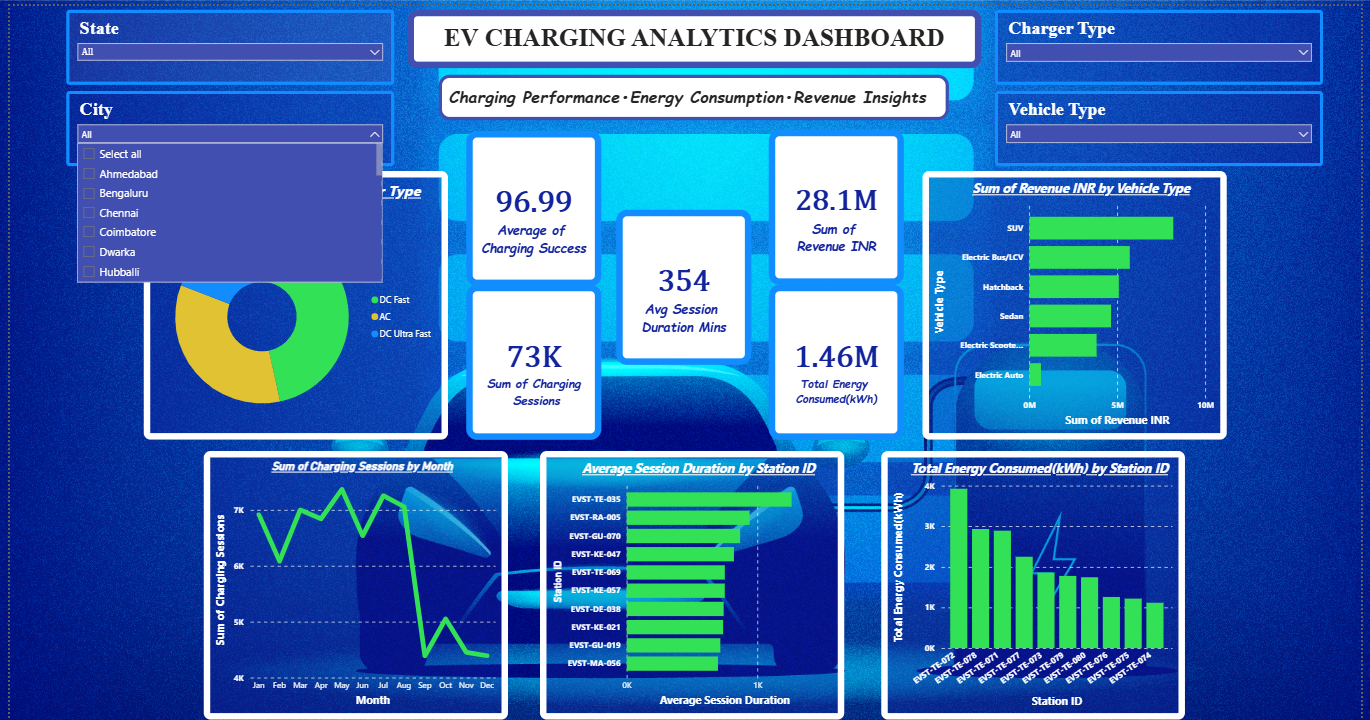

What the dashboard file says about the page in this screenshot:
{"tool":"powerbi","page":{"name":"EV Executive Overview","canvas":[2000,1056],"ordinal":0},"visuals":[{"type":"card","fields":{"Values":["Sum(Sheet1.Charging_Sessions)"]},"box":[675.2,412.3,199.8,229.3],"z":0},{"type":"card","fields":{"Values":["Sum(Sheet1.Energy_Consumed_kWh)"]},"box":[1123.3,412.3,199.8,229.3],"z":1000},{"type":"card","fields":{"Values":["Sum(Sheet1.Revenue_INR)"]},"box":[1123.3,183,199.8,229.3],"z":2000},{"type":"card","fields":{"Values":["Avg(Sheet1.Avg_Session_Duration_Min)"]},"box":[898.2,300.8,199.8,229.3],"z":3000},{"type":"lineChart","fields":{"Y":["Sum(Sheet1.Charging_Sessions)"],"Category":["Sheet1.Month"]},"box":[286.1,658.4,450.1,397.6],"z":4000},{"type":"clusteredBarChart","fields":{"Category":["Sheet1.Station_ID"],"Y":["Avg(Sheet1.Avg_Session_Duration_Min)"]},"box":[784.6,658.4,450.1,397.6],"z":5000},{"type":"clusteredColumnChart","title":"Total Energy Consumed(kWh) by Station ID","fields":{"Category":["Sheet1.Station_ID"],"Y":["Sum(Sheet1.Total Energy Consumed(kWh))"]},"box":[1289.8,658.8,449.7,397.9],"z":6000},{"type":"donutChart","title":"Charging Sessions by Charger Type","fields":{"Category":["Sheet1.Charger_Type"],"Y":["Sum(Sheet1.Charging_Sessions)"]},"box":[197.7,244,450.1,397.6],"z":7000},{"type":"card","fields":{"Values":["Avg(Sheet1.Charging_Success_%)"]},"box":[675.2,185.1,199.8,229.3],"z":8000},{"type":"clusteredBarChart","fields":{"Category":["Sheet1.Vehicle_Type"],"Y":["Sum(Sheet1.Revenue_INR)"]},"box":[1350.4,244,450.1,397.6],"z":9000},{"type":"textbox","box":[589,6,849.8,86.2],"z":10000},{"type":"textbox","box":[635.3,102,755.2,67.3],"z":11000},{"type":"slicer","fields":{"Values":["Sheet1.State"]},"box":[84.1,6.3,485.9,111.5],"z":12000},{"type":"slicer","fields":{"Values":["Sheet1.Charger_Type"]},"box":[1457.7,6.3,485.9,111.5],"z":13000},{"type":"slicer","fields":{"Values":["Sheet1.Vehicle_Type"]},"box":[1457.7,126.2,485.9,111],"z":14000},{"type":"slicer","fields":{"Values":["Sheet1.City"]},"box":[84.1,126.2,485.9,111.5],"z":15000}]}

Visuals, with their boxes in screenshot pixels (x1, y1, x2, y2), scaled from the page's 2000x1056 canvas onto the 1370x720 screenshot:
card - Sum(Sheet1.Charging_Sessions): <bbox>463, 281, 599, 437</bbox>
card - Sum(Sheet1.Energy_Consumed_kWh): <bbox>769, 281, 906, 437</bbox>
card - Sum(Sheet1.Revenue_INR): <bbox>769, 125, 906, 281</bbox>
card - Avg(Sheet1.Avg_Session_Duration_Min): <bbox>615, 205, 752, 361</bbox>
lineChart - Sum(Sheet1.Charging_Sessions) x Sheet1.Month: <bbox>196, 449, 504, 719</bbox>
clusteredBarChart - Sheet1.Station_ID x Avg(Sheet1.Avg_Session_Duration_Min): <bbox>537, 449, 846, 719</bbox>
"Total Energy Consumed(kWh) by Station ID" clusteredColumnChart: <bbox>884, 449, 1192, 719</bbox>
"Charging Sessions by Charger Type" donutChart: <bbox>135, 166, 444, 437</bbox>
card - Avg(Sheet1.Charging_Success_%): <bbox>463, 126, 599, 283</bbox>
clusteredBarChart - Sheet1.Vehicle_Type x Sum(Sheet1.Revenue_INR): <bbox>925, 166, 1233, 437</bbox>
textbox: <bbox>403, 4, 986, 63</bbox>
textbox: <bbox>435, 70, 952, 115</bbox>
slicer - Sheet1.State: <bbox>58, 4, 390, 80</bbox>
slicer - Sheet1.Charger_Type: <bbox>999, 4, 1331, 80</bbox>
slicer - Sheet1.Vehicle_Type: <bbox>999, 86, 1331, 162</bbox>
slicer - Sheet1.City: <bbox>58, 86, 390, 162</bbox>
